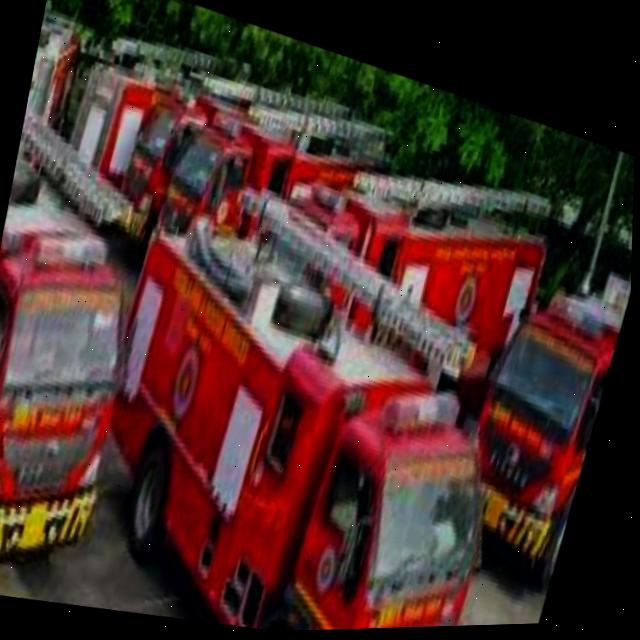emergency: (63, 190, 532, 638), (248, 152, 559, 429), (445, 258, 634, 606), (0, 189, 150, 602), (145, 93, 408, 307), (106, 67, 364, 285), (54, 34, 243, 222), (17, 0, 89, 173)
